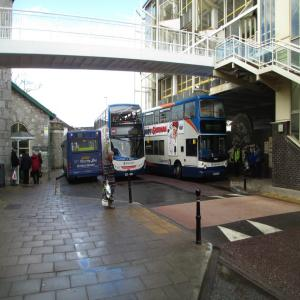Vehicle-registration-plate: (126, 173, 134, 178), (213, 173, 221, 177)
